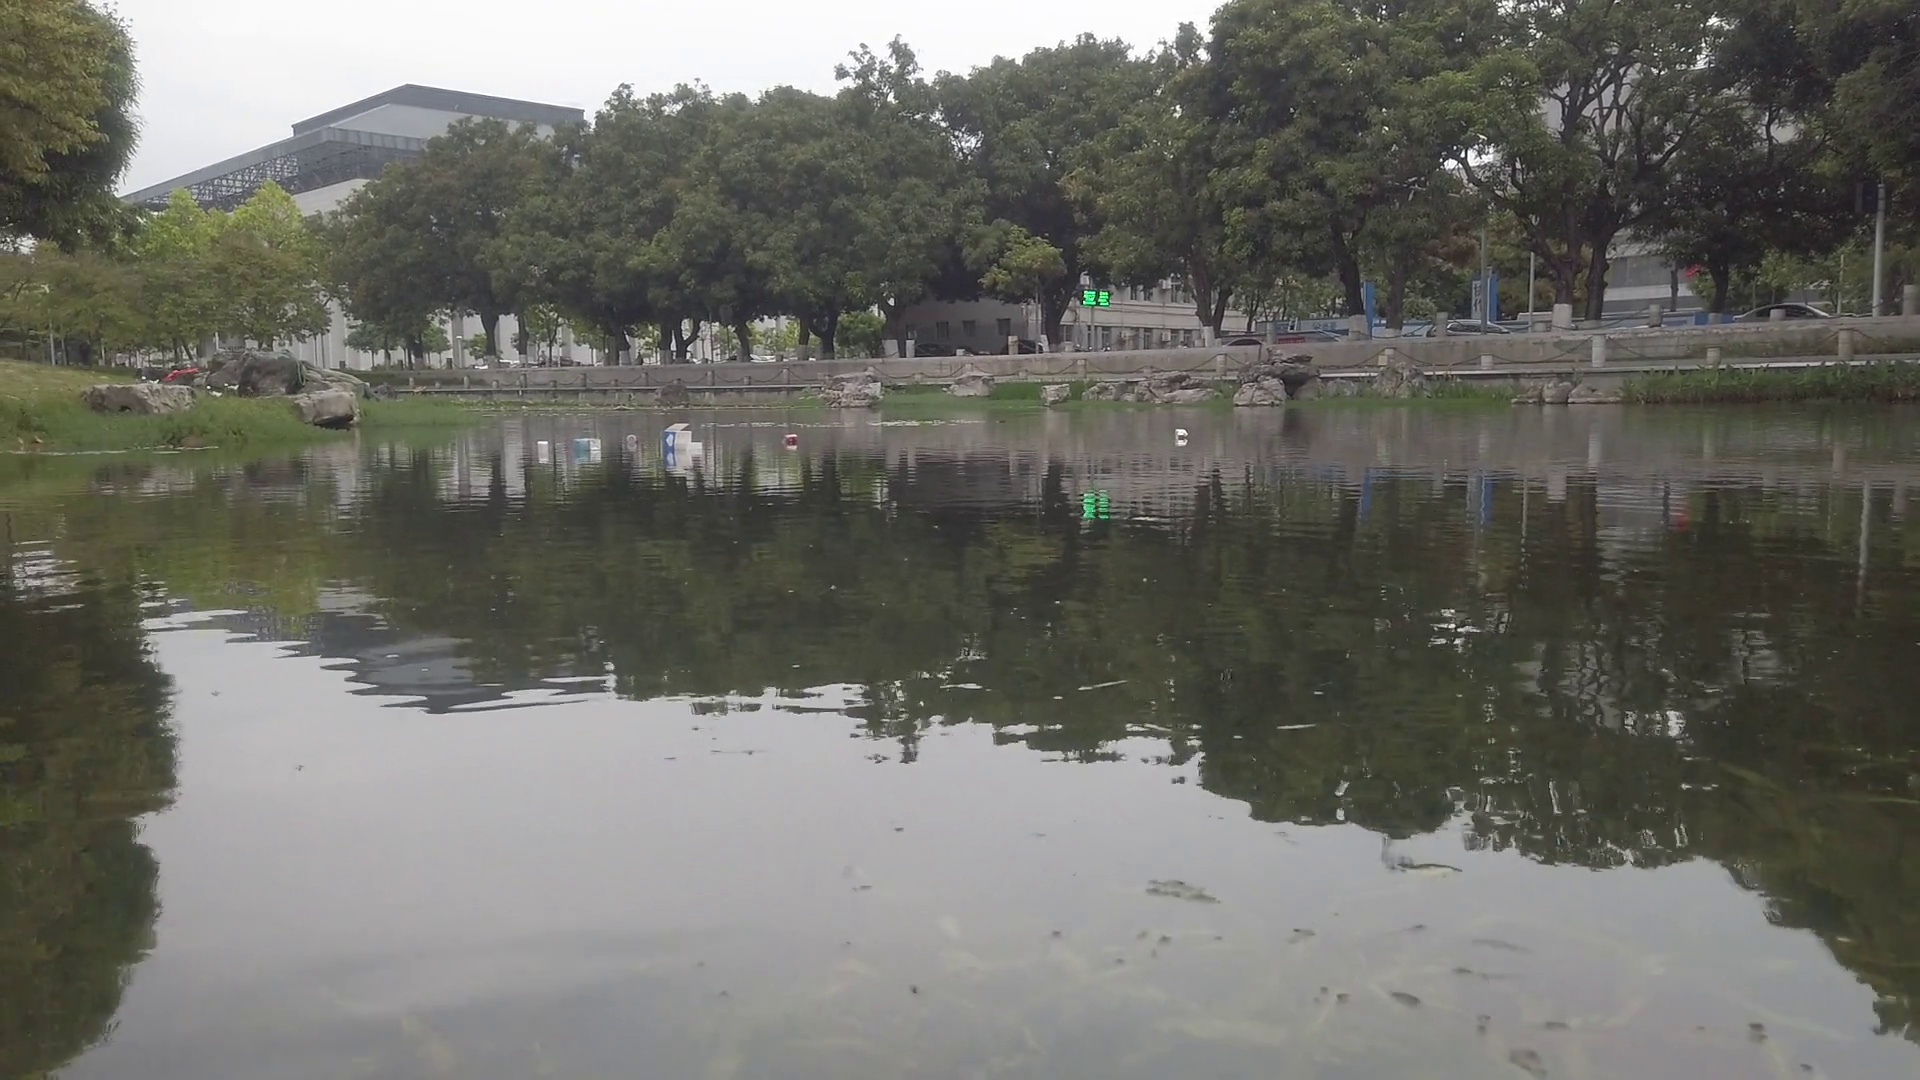bottle: (783, 433, 798, 444), (625, 433, 636, 444)
carton: (662, 425, 698, 455), (572, 436, 603, 455), (537, 438, 550, 458), (1175, 426, 1189, 443)
